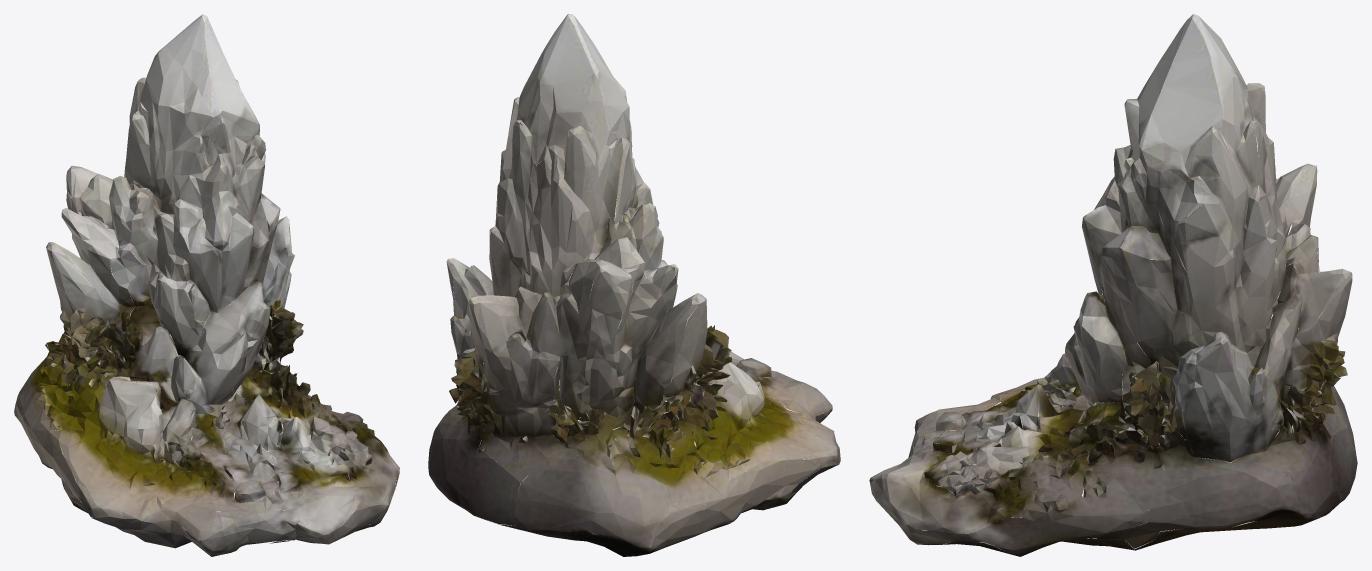
Rendered from wt-ruins-crystal.glb.
3 views of the same model, side by side, from view 1: azimuth 30°, elevation 25°; view 2: azimuth 150°, elevation 25°; view 3: azimuth 270°, elevation 25° (orthographic). The views are drawn at different scales.
Parts seen in each view (by area): view 1: tmpnrp0zf_u.ply; view 2: tmpnrp0zf_u.ply; view 3: tmpnrp0zf_u.ply.
Boxes of the visible parts, box(x1,y1,x2,y2) form: tmpnrp0zf_u.ply: box(14, 14, 399, 556); tmpnrp0zf_u.ply: box(428, 14, 840, 556); tmpnrp0zf_u.ply: box(869, 14, 1357, 556).
Bounding box in the file's own units: 2 × 3.04 × 2.67.
Materials: 1 (1 with a texture image).
